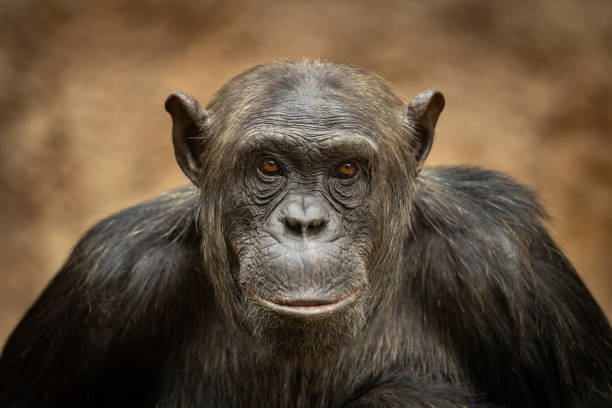chimpanzee: (150, 48, 460, 371)
